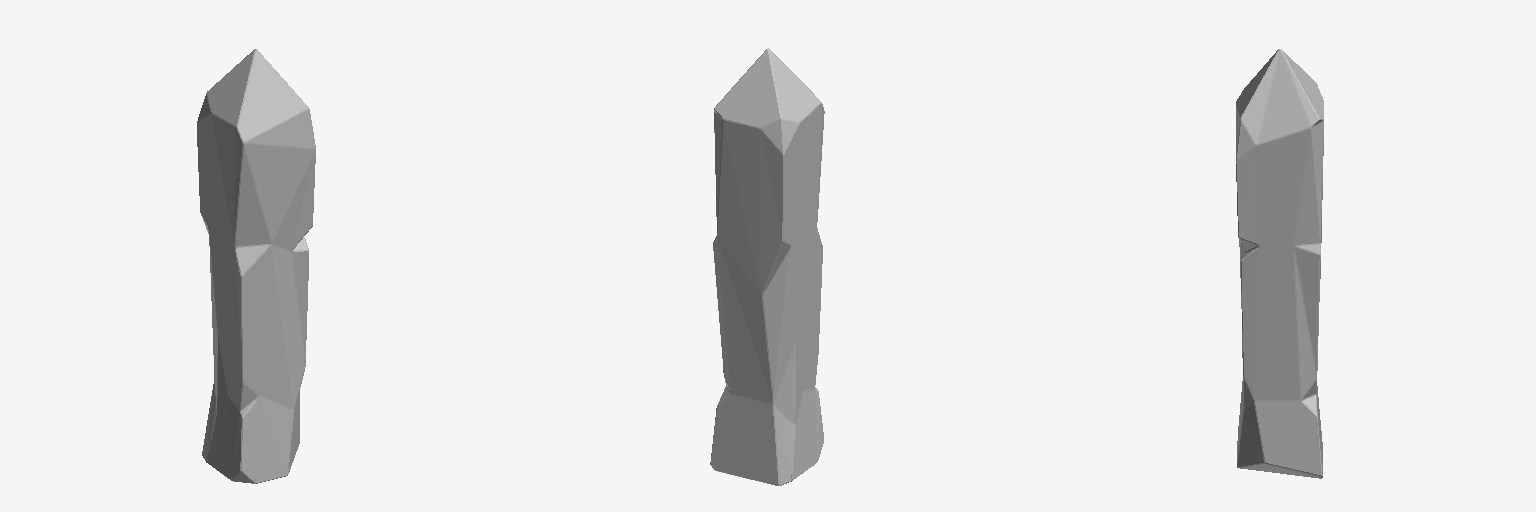
File: blueCrystal.obj
3 views of the same model, side by side, from view 1: azimuth 30°, elevation 25°; view 2: azimuth 150°, elevation 25°; view 3: azimuth 270°, elevation 25° (orthographic).
Visible parts, largest first — view 1: Blue_Crystal_M_Blue_0; view 2: Blue_Crystal_M_Blue_0; view 3: Blue_Crystal_M_Blue_0.
Boxes of the visible parts, box(x1,y1,x2,y2) form: Blue_Crystal_M_Blue_0: box(197, 49, 315, 483); Blue_Crystal_M_Blue_0: box(710, 48, 824, 485); Blue_Crystal_M_Blue_0: box(1236, 49, 1323, 478).
Size of the model in its own units: 1.86 by 9.57 by 1.85.